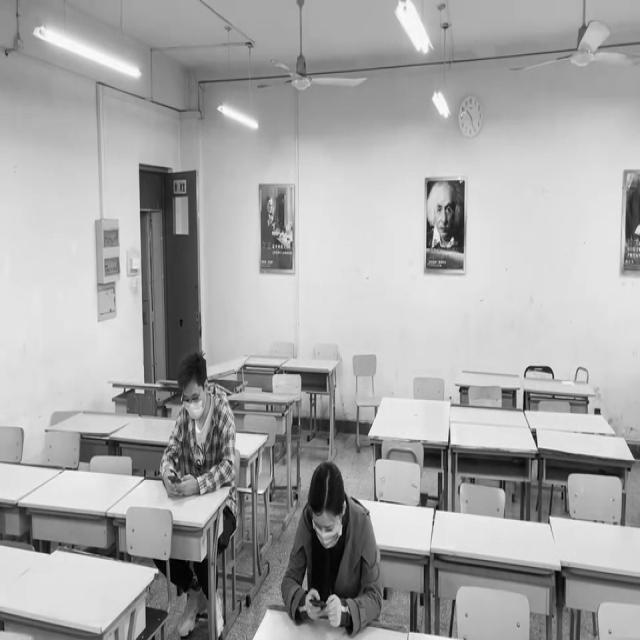phone: (284, 467, 375, 625), (159, 360, 234, 491)
